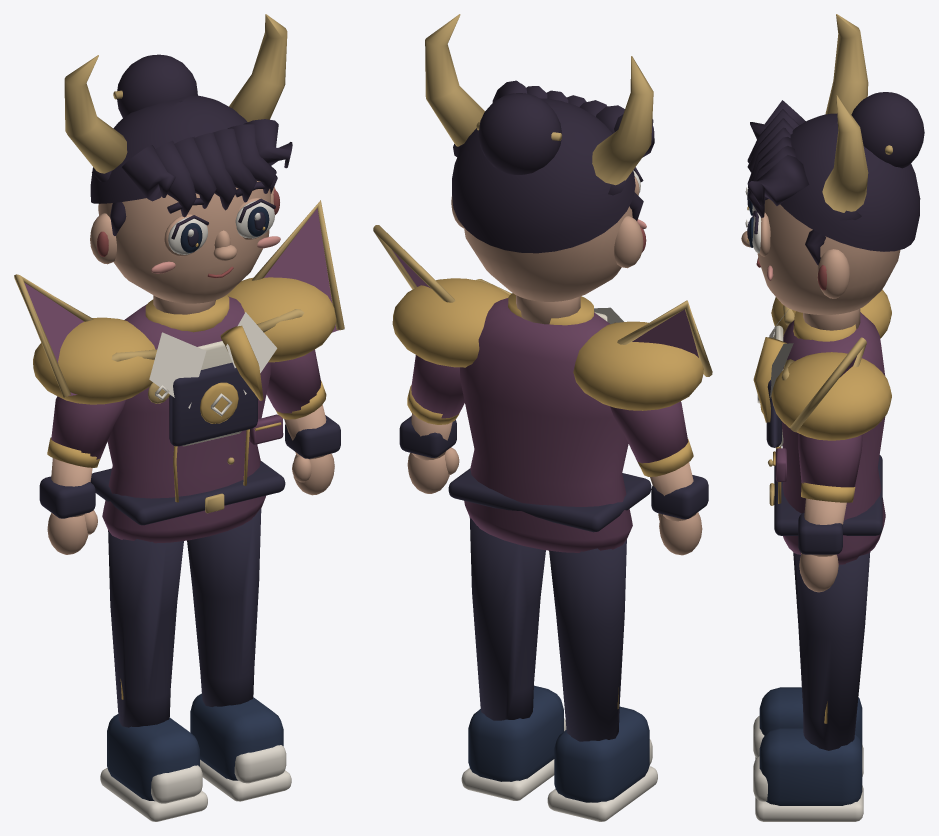
Rendered from xingyin-characters-v1__elite_dragon_gatekeeper.glb.
3 views of the same model, side by side, from view 1: azimuth 30°, elevation 25°; view 2: azimuth 150°, elevation 25°; view 3: azimuth 270°, elevation 25° (orthographic). The views are drawn at different scales.
Visible parts, largest first — view 1: figure.027; view 2: figure.027; view 3: figure.027.
Part boxes in pixels (x1,y1,x2,y2): figure.027: (14, 14, 344, 821); figure.027: (373, 14, 712, 821); figure.027: (741, 14, 924, 821).
Bounding box in the file's own units: 1.13 × 2.63 × 0.5936.
